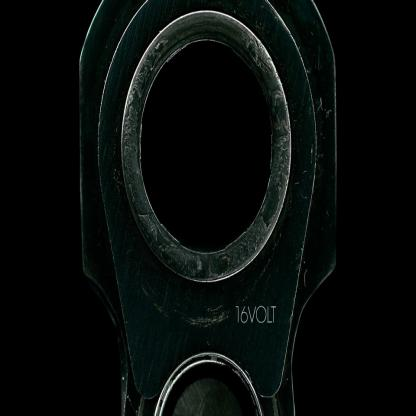gun: (69, 0, 338, 415)
